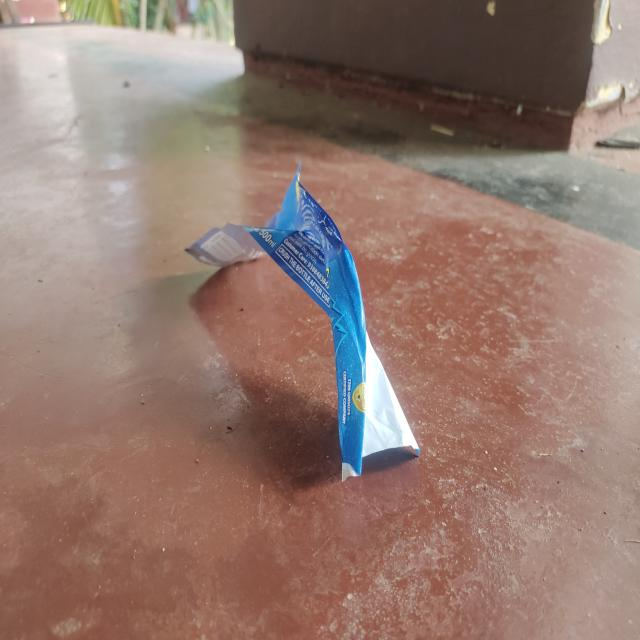plastic: (182, 160, 424, 479)
